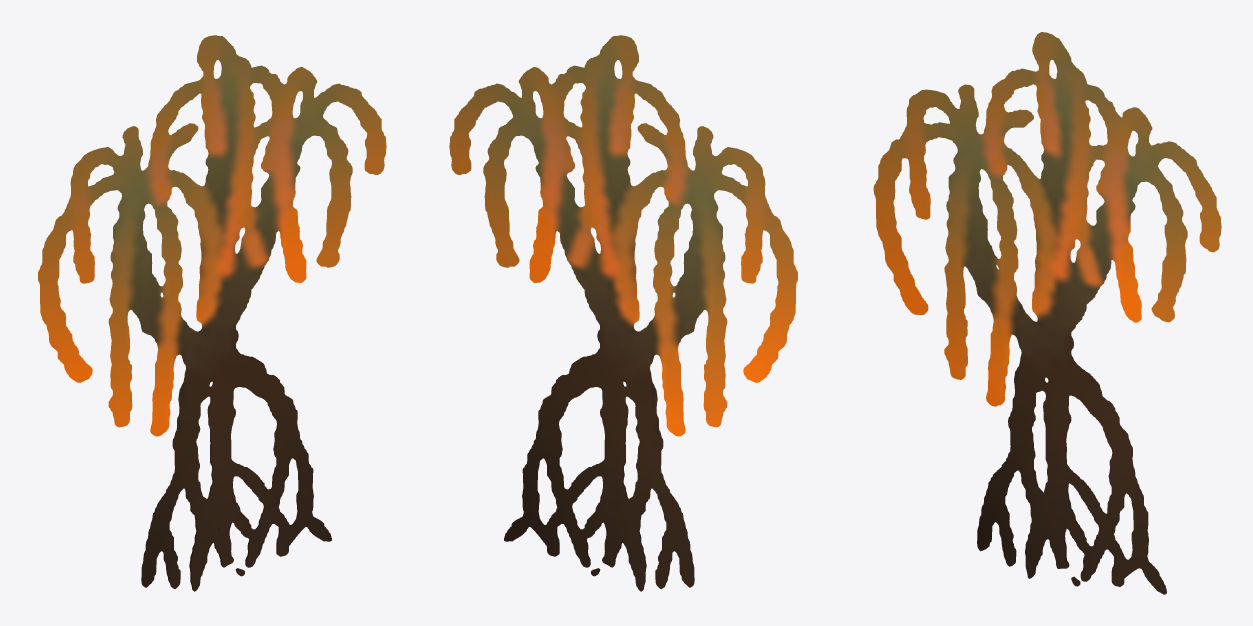
Rendered from painted-weed-081.glb.
3 views of the same model, side by side, from view 1: azimuth 30°, elevation 25°; view 2: azimuth 150°, elevation 25°; view 3: azimuth 330°, elevation 25° (orthographic).
Size of the model in its own units: 6.87 by 10.09 by 0.04.
1 material, 1 textured.
